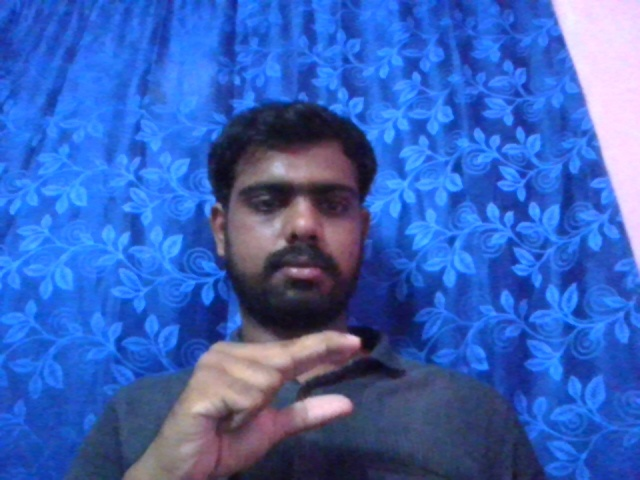No: (165, 326, 364, 467)
